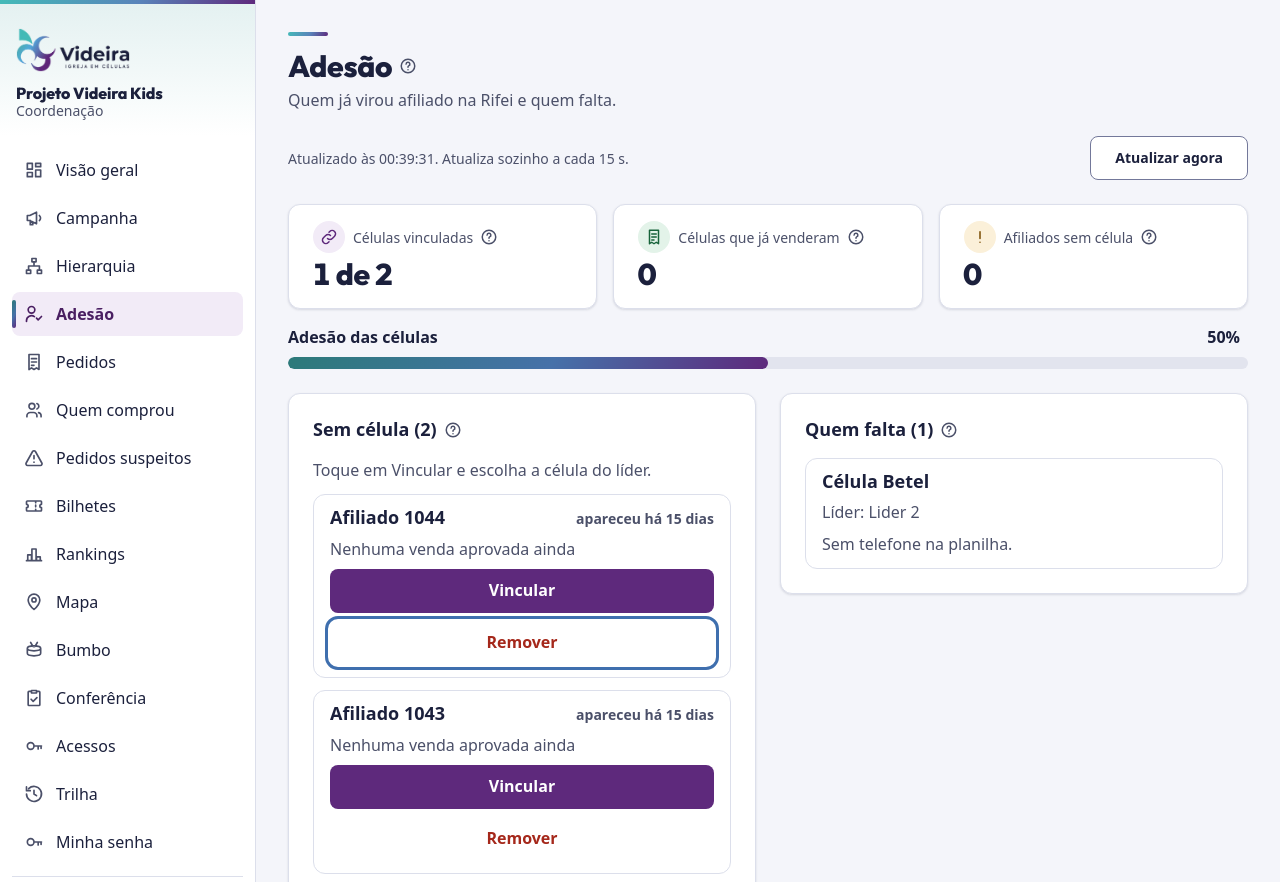
CA5: remover › 204: o órfão sai da fila, o aviso é anunciado e o foco vai para o próximo da fila
Expected: the text "Atualizado às 00:39:31. Atualiza sozinho a cada 15 s." is shown, [288,148,629,168]
Step 1. Click the button named "Remover o afiliado 1044" → (522, 642), box [330,620,714,664]
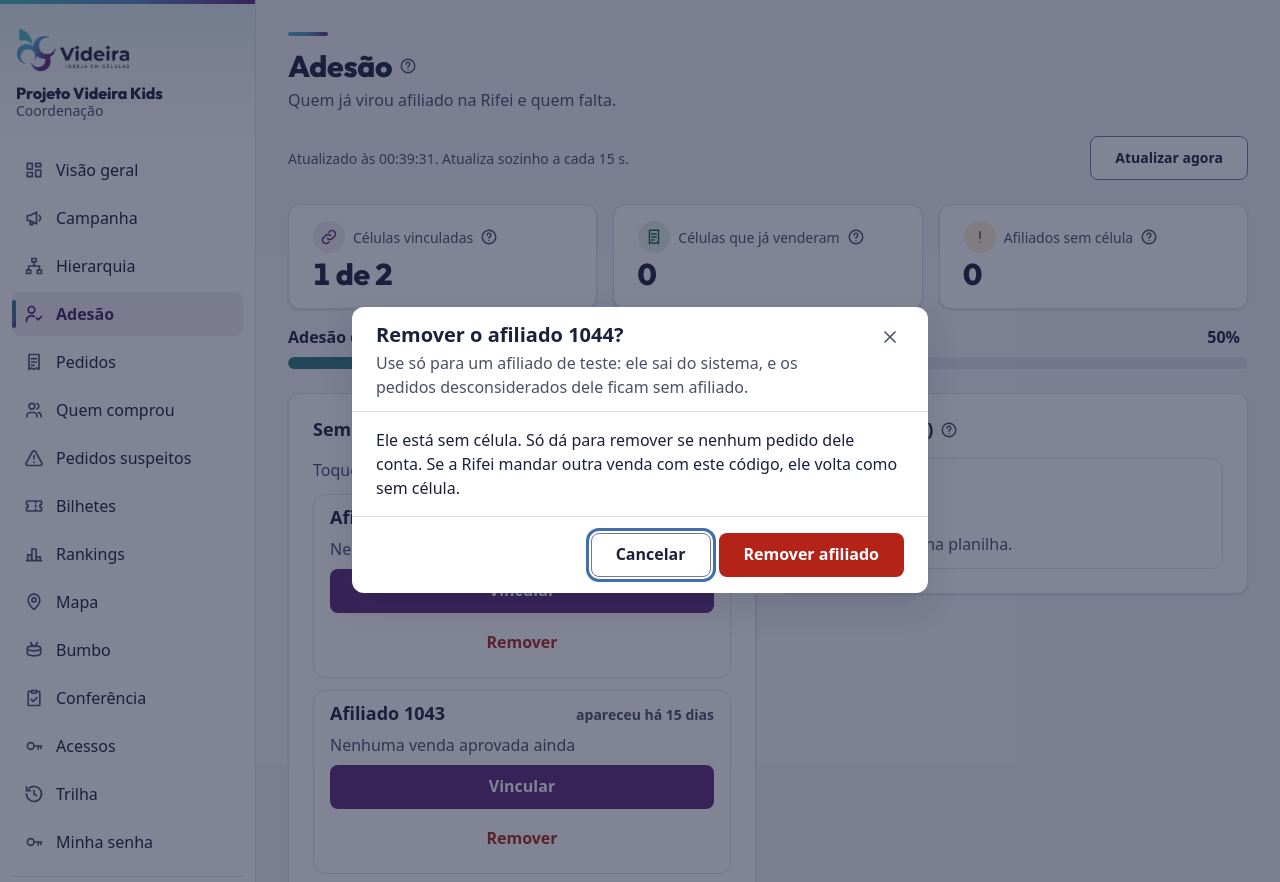
Step 2. Click the button "Remover afiliado" → (811, 555), box [718,533,904,577]
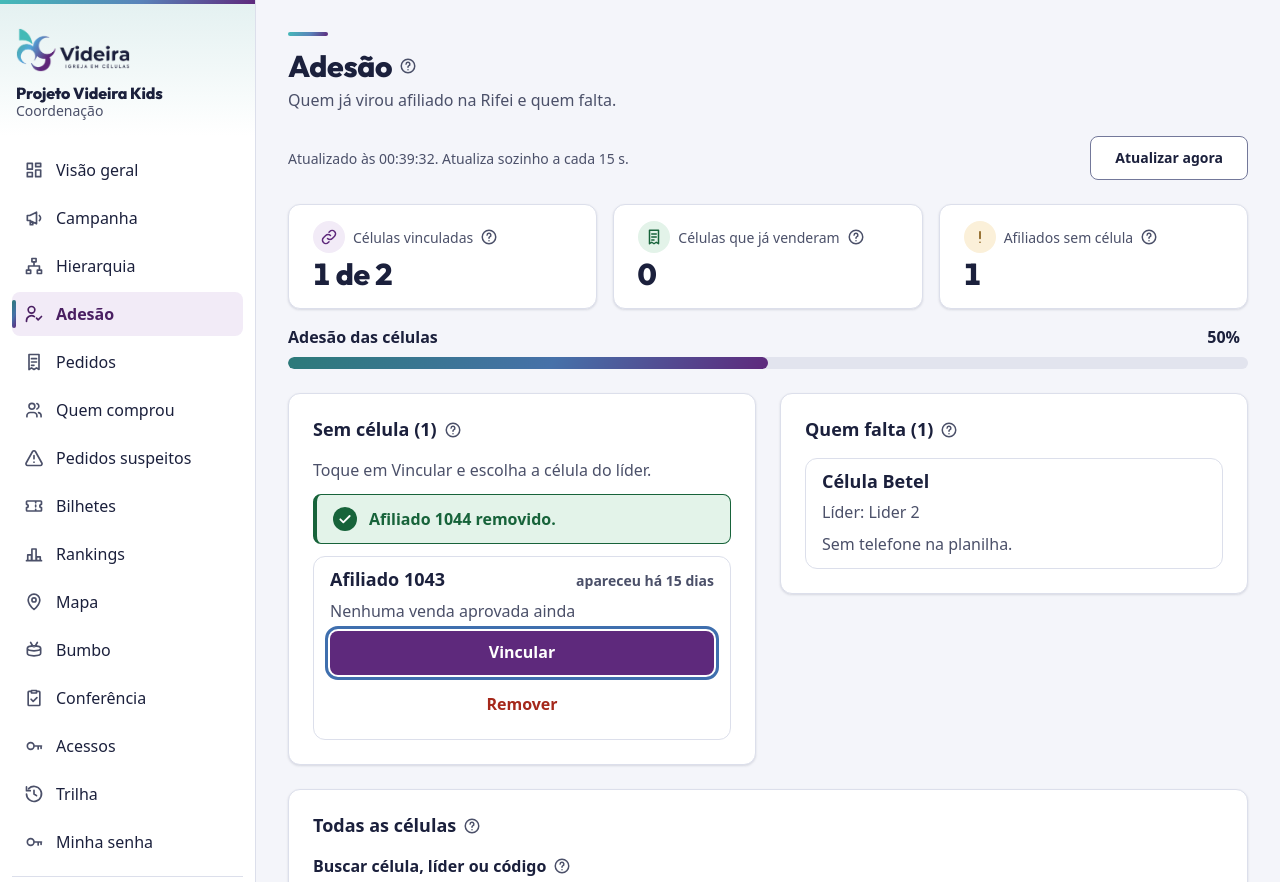
Now the dialog is gone
